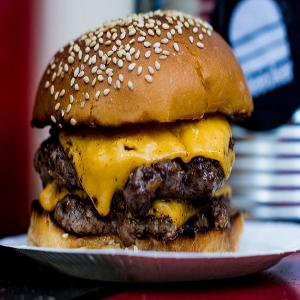cheeseburger_475cal: (24, 11, 251, 270)
